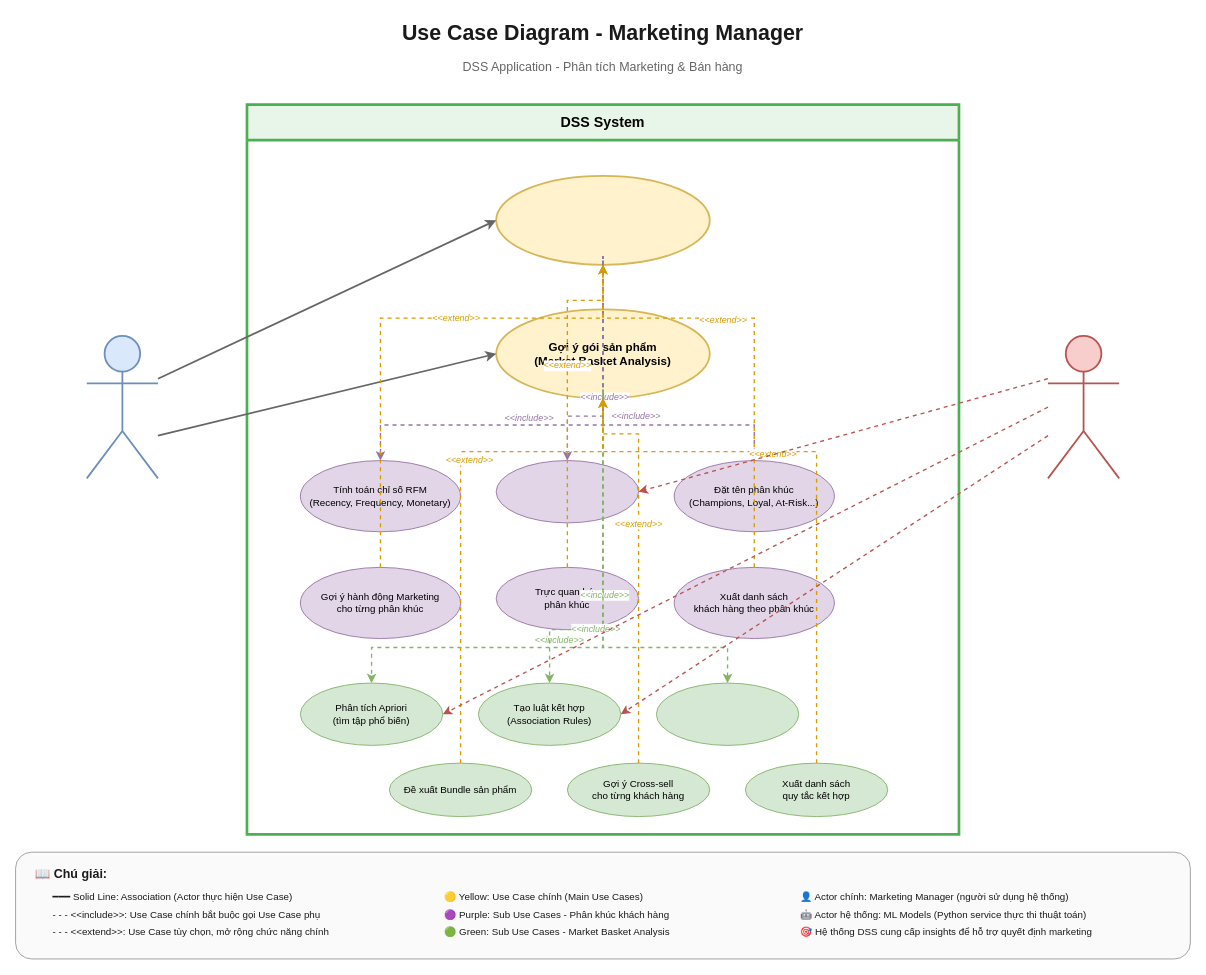
Some shapes in this 1206 by 975 pixel diagram are drawn without their labels. The box of each missing label's shape, as (x1, y1, x2, y2) in pixels:
<<system>> ML Models (Python Service): (1047, 335, 1120, 479)
Marketing Manager: (85, 335, 158, 479)
Phân cụm K-Means: (495, 460, 639, 523)
Phân khúc khách hàng (RFM & K-Means): (495, 174, 710, 265)
Tính Support, Confidence, Lift: (655, 682, 799, 745)
